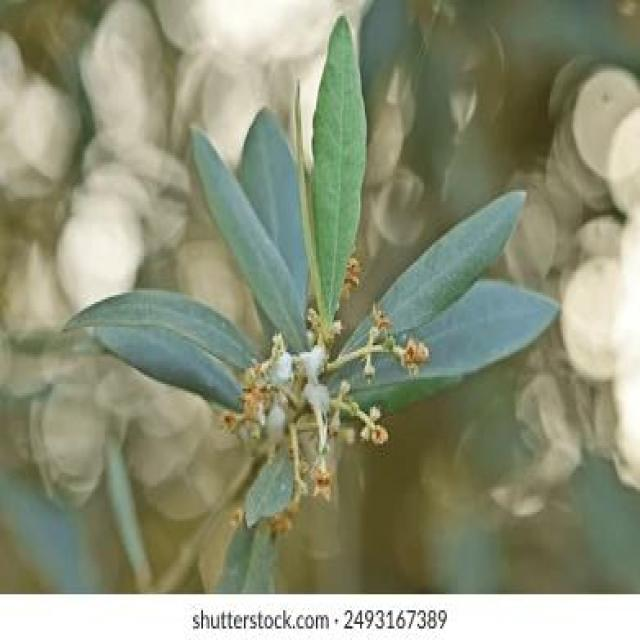Psyllid: (300, 345, 329, 459), (266, 331, 293, 383), (260, 400, 288, 446)
